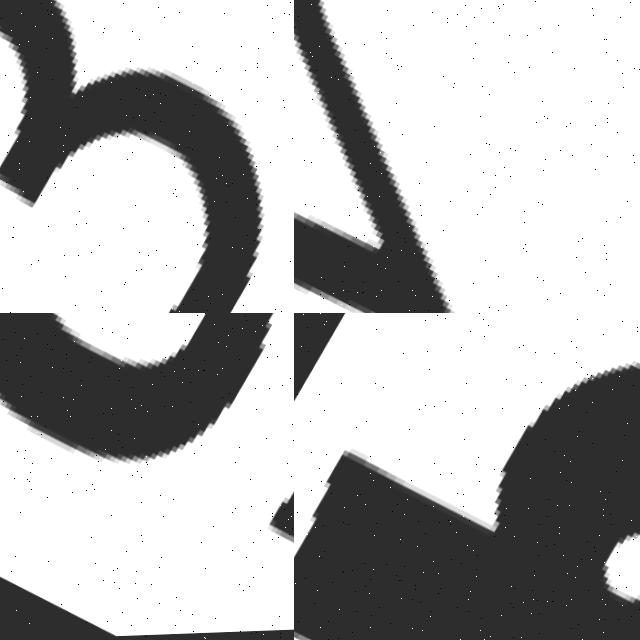3: (0, 0, 294, 313)
9: (0, 313, 294, 607)
B: (294, 367, 640, 640)
Y: (294, 0, 640, 313)
